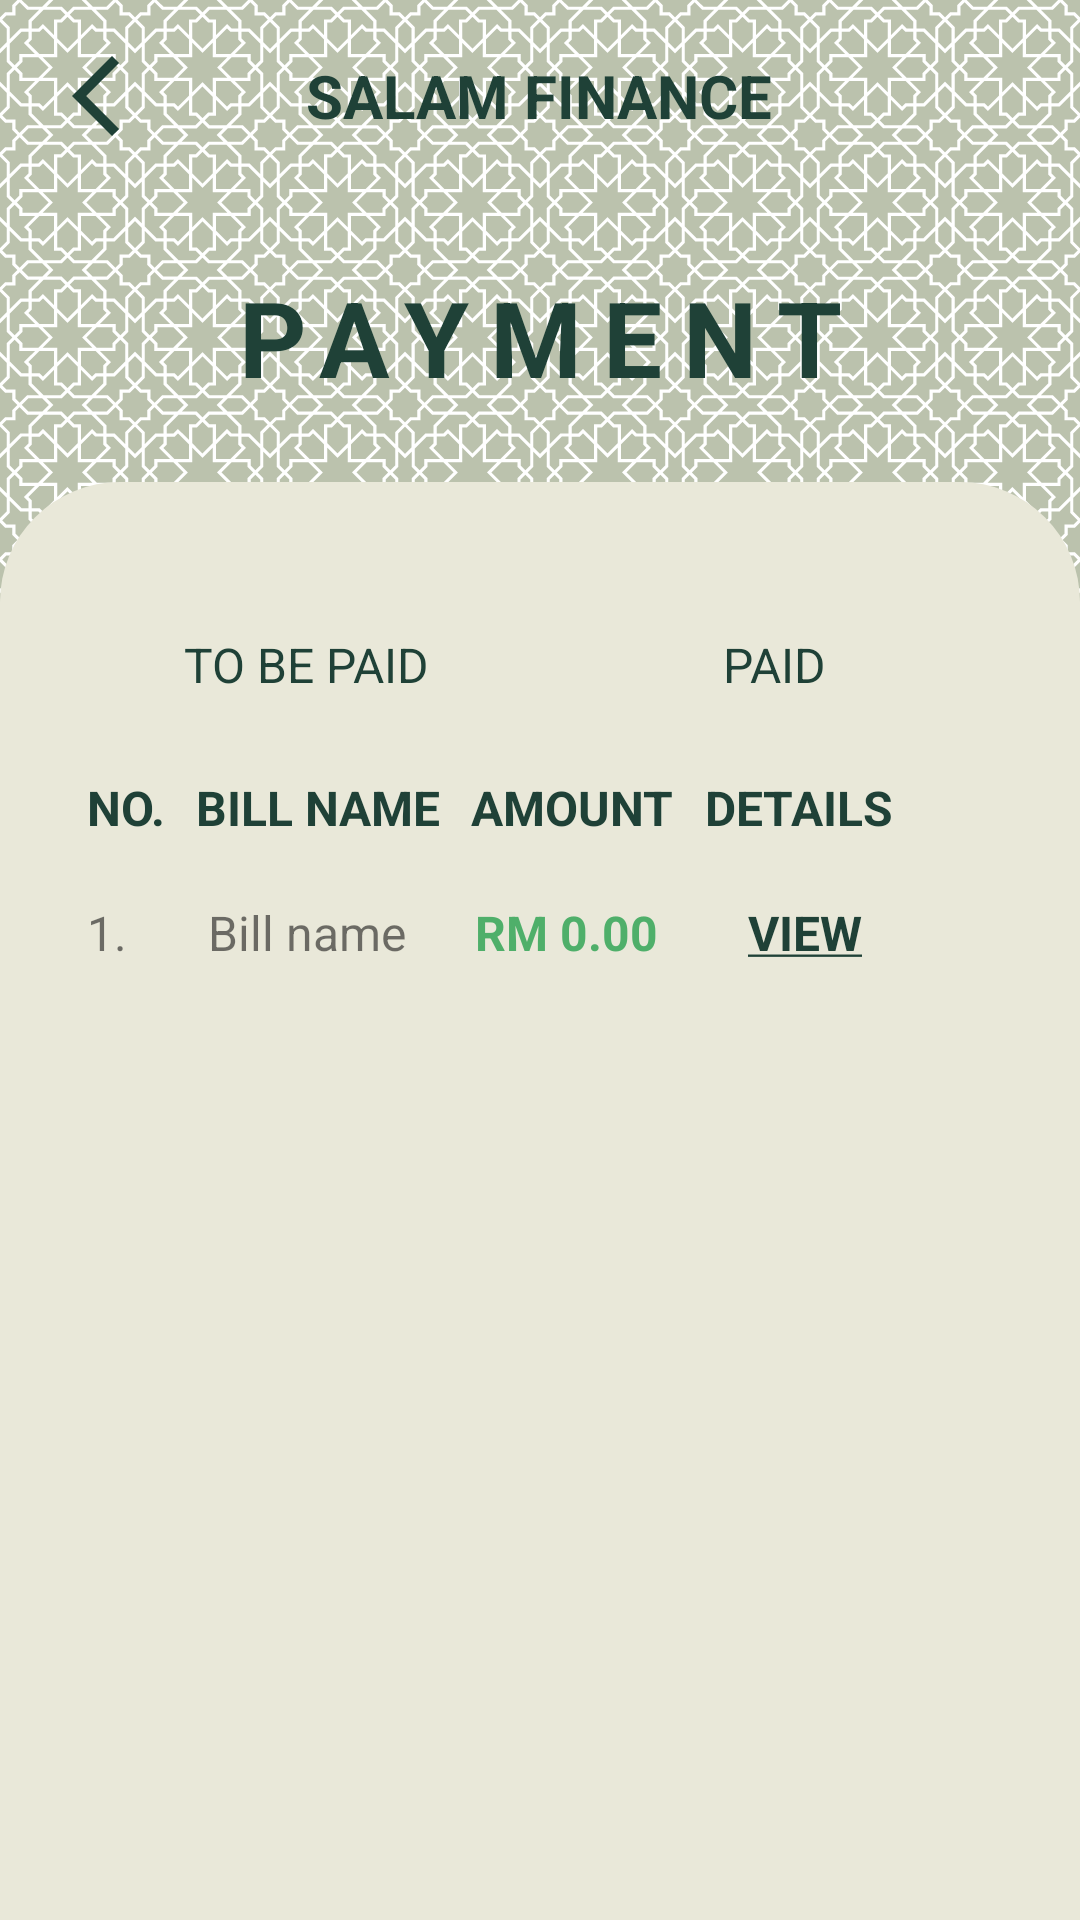

Screen size 1080px x 1920px. Icon name, then its center in pixels as [x,y]:
arrow back: [96,96]
